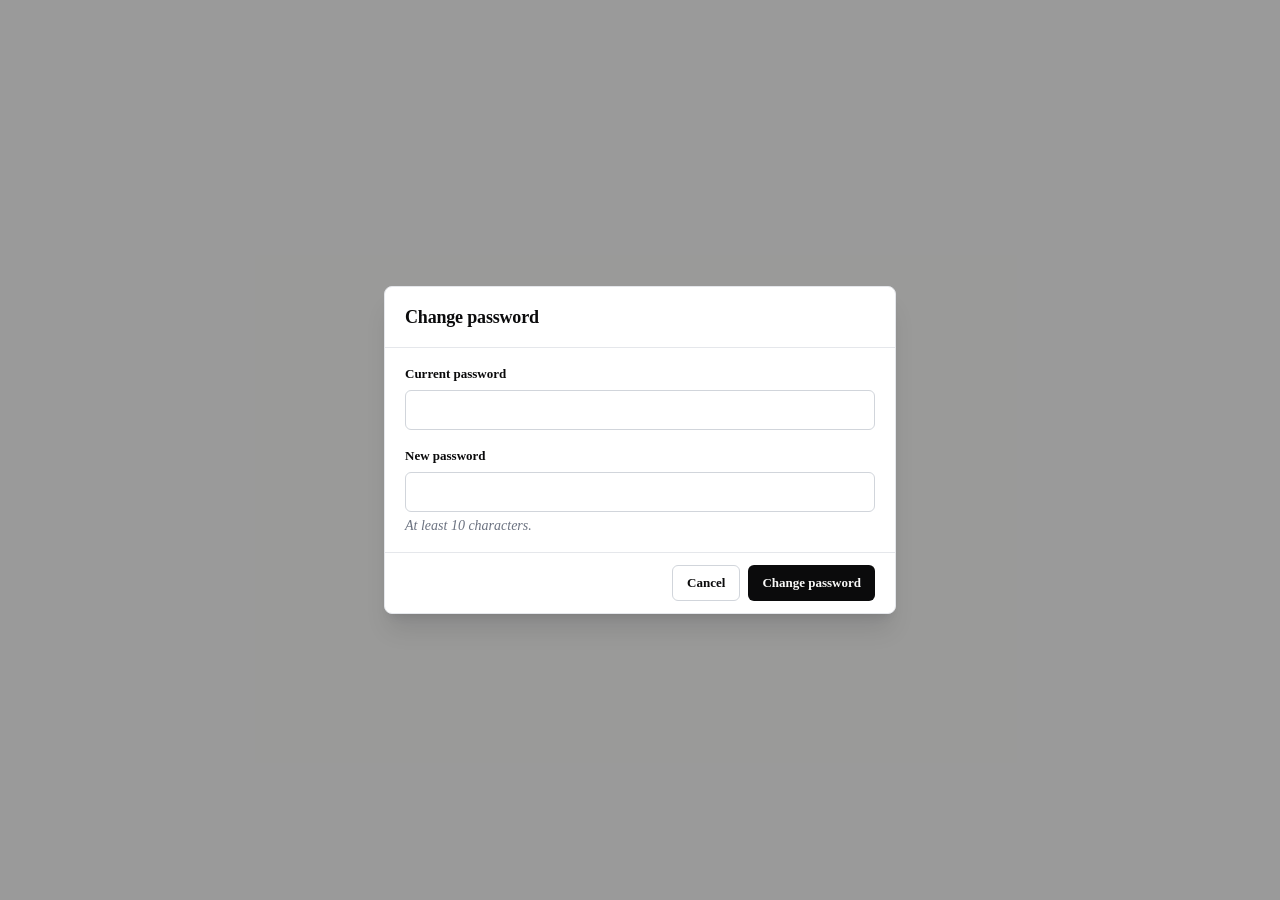
Test: ChangePasswordDialog › a 401 from an expired session says so, not that the password is wrong
Type "the old password" into the password field labelled "Current password" at (640, 410), box [405,390,875,430]
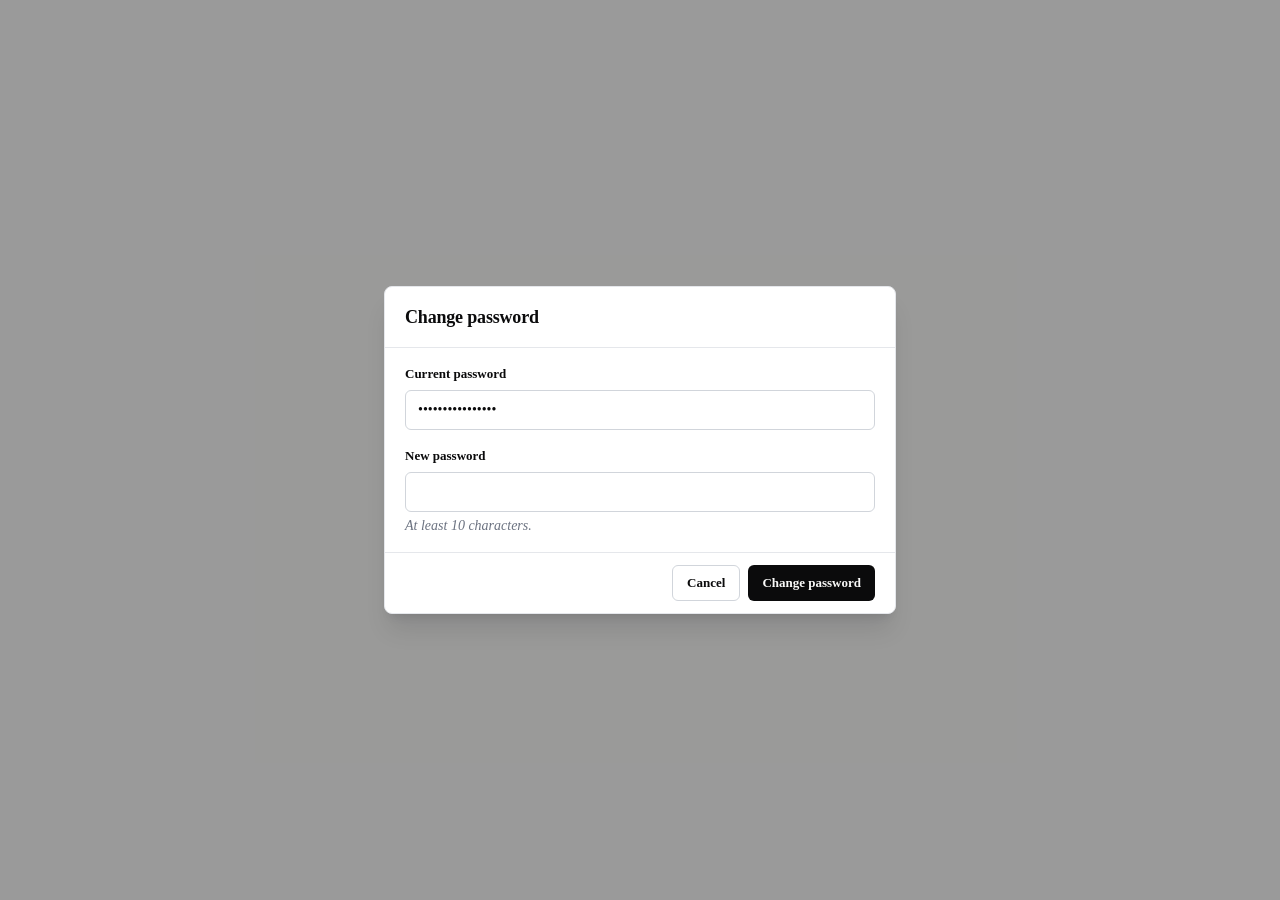
Type "the new password" into the password field labelled "New password" at (640, 492), box [405,472,875,512]
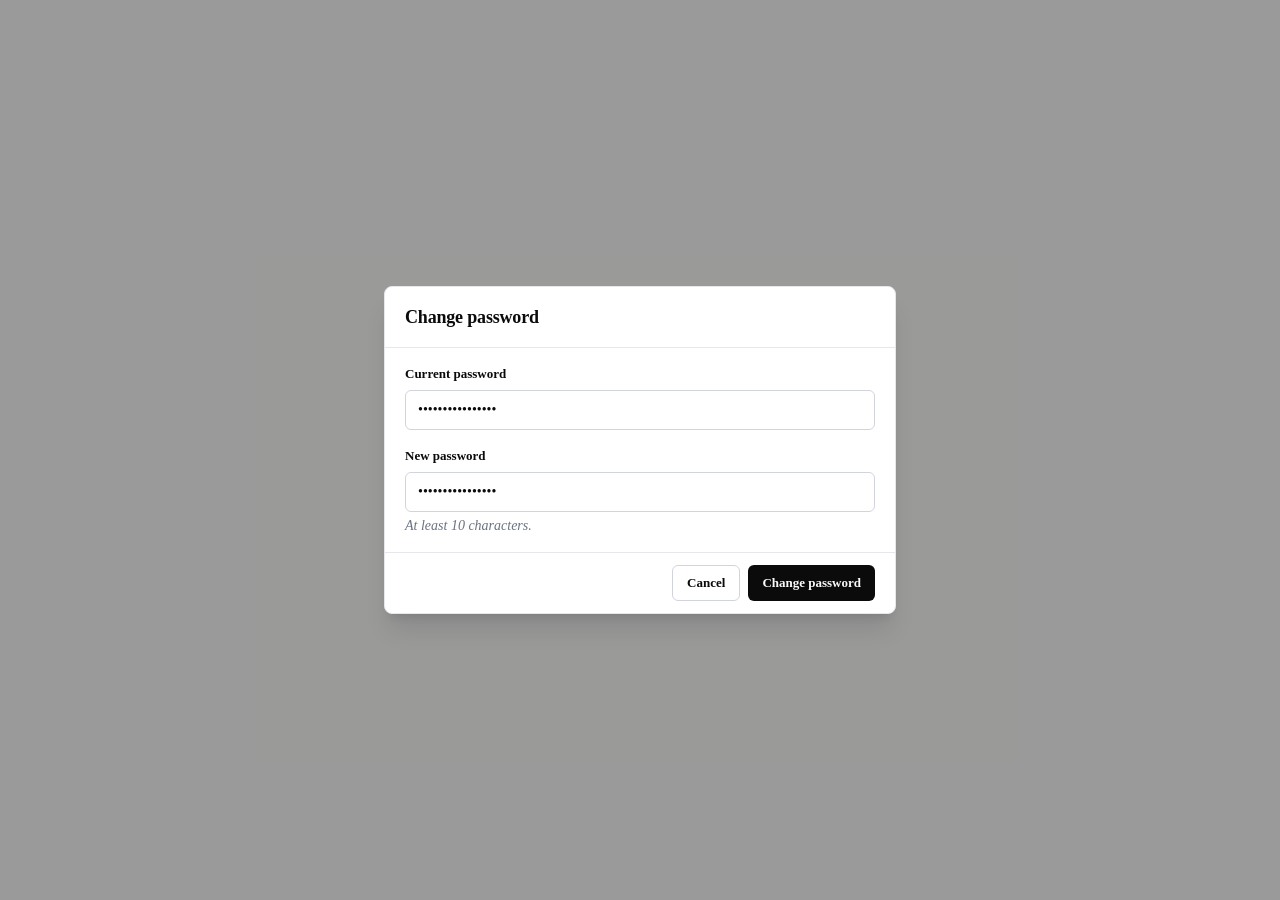
Click the button "Change password" at (812, 583), box [748,565,875,601]
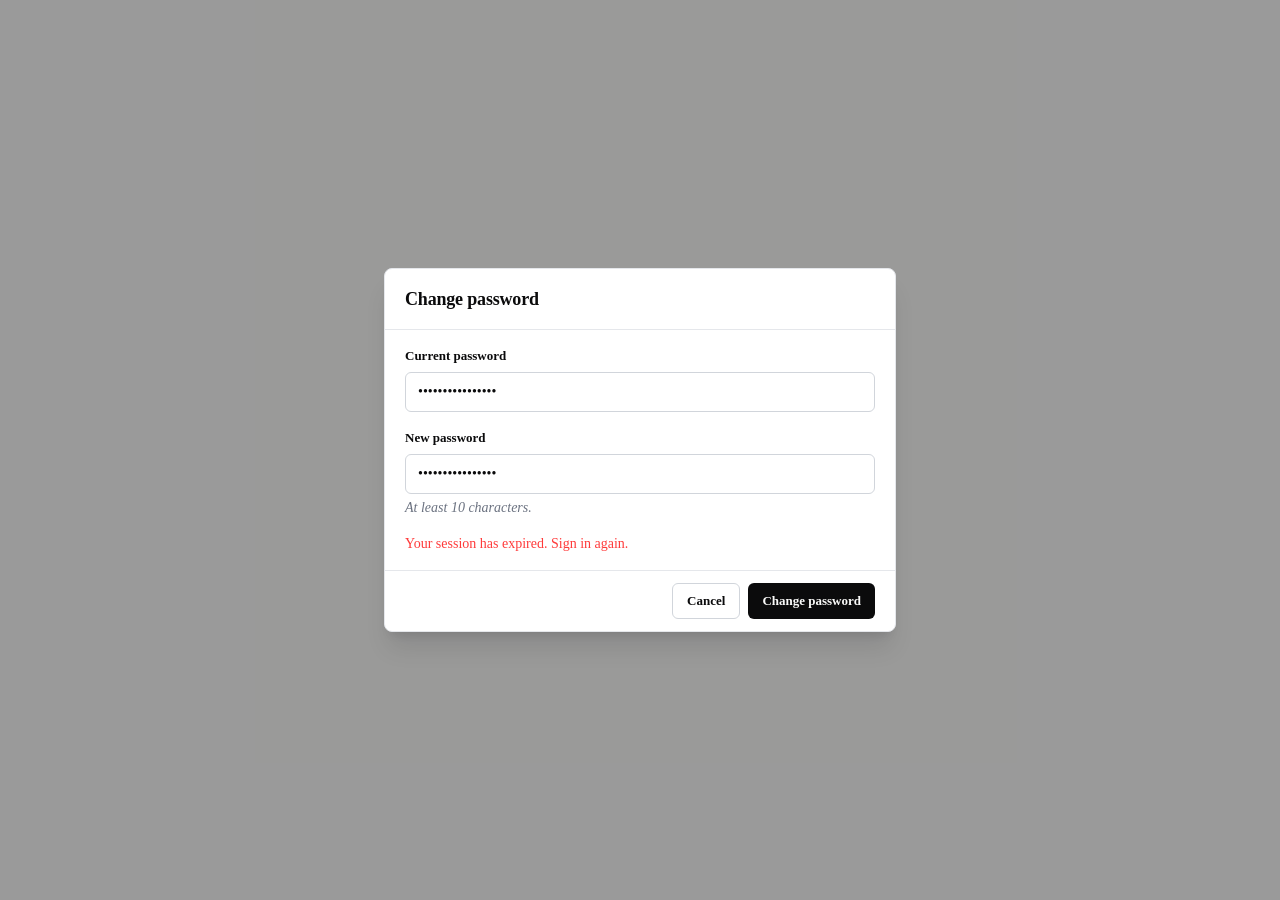
Result: the message reads "Your session has expired. Sign in again." at [405,536,628,551]
